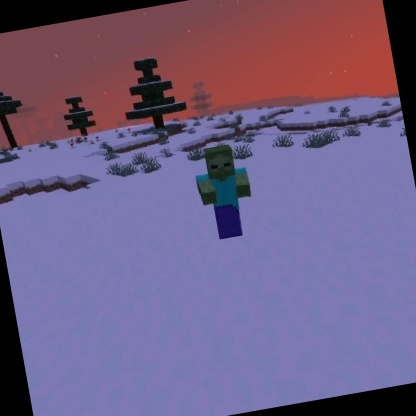zombie: (188, 137, 262, 245)
